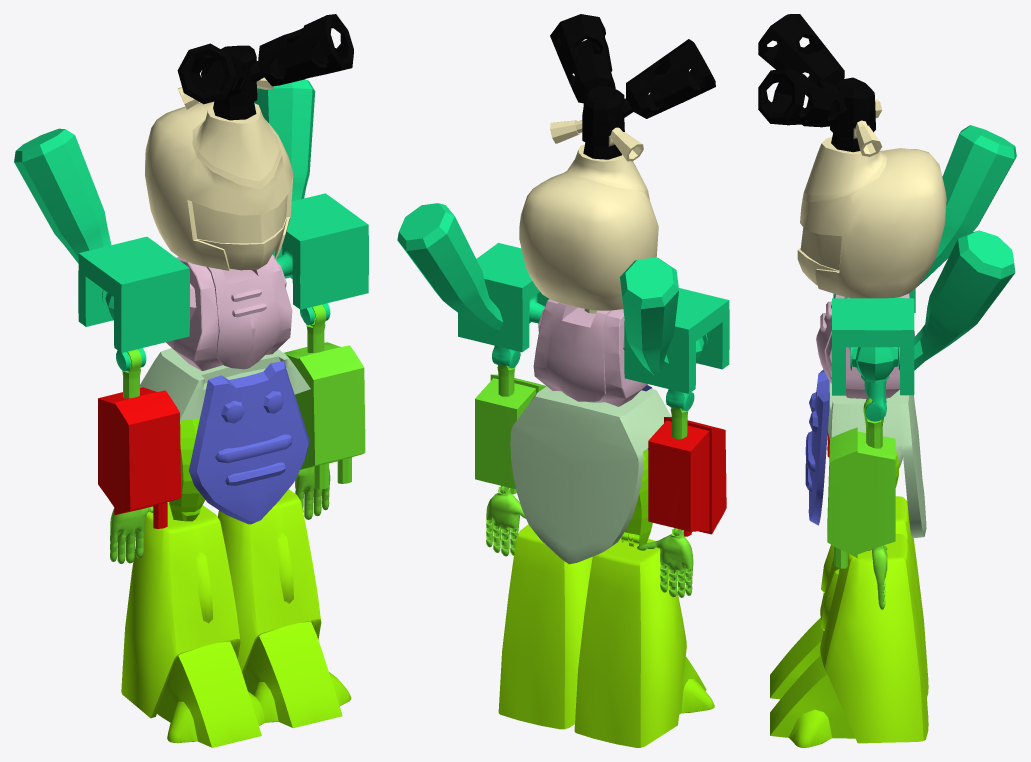
The model's file is MetabeeLoePolyBlender.fbx.
3 views of the same model, side by side, from view 1: azimuth 30°, elevation 25°; view 2: azimuth 150°, elevation 25°; view 3: azimuth 270°, elevation 25° (orthographic). The views are drawn at different scales.
Visible parts, largest first — view 1: M_Head_LowPoly, M_Braco_E_LowPoly001, M_AntePerna_D_Low_Poly, M_Escudo_Saia_LowPoly, M_Braco_E_LowPoly005, M_AntePerna_E_Low_Poly, M_Chest_LowPoly, M_AnteBraco_D_Low_Poly, Pe_Metabee_LowPoly_D, M_AnteBraco_E_Low_Poly, Pe_Metabee_LowPoly_E, Saia_Traz_LowPoly (+5 smaller); view 2: M_Head_LowPoly, Saia_Traz_LowPoly, M_AntePerna_D_Low_Poly, M_AntePerna_E_Low_Poly, M_Braco_E_LowPoly005, M_Braco_E_LowPoly001, M_Chest_LowPoly, M_AnteBraco_D_Low_Poly, M_AnteBraco_E_Low_Poly, M_Perna_D_Low, Pe_Metabee_LowPoly_D, Mao_D (+3 smaller); view 3: M_Head_LowPoly, M_AntePerna_E_Low_Poly, M_Braco_E_LowPoly005, M_AnteBraco_E_Low_Poly, M_Braco_E_LowPoly001, Saia_Traz_LowPoly, Pe_Metabee_LowPoly_E, M_Escudo_Saia_LowPoly, Arm_E, M_Chest_LowPoly, Pe_Metabee_LowPoly_D, M_AntePerna_D_Low_Poly (+2 smaller).
Boxes of the visible parts, box(x1,y1,x2,y2) form: M_Head_LowPoly: box(145, 14, 353, 270); M_Braco_E_LowPoly001: box(14, 128, 189, 352); M_AntePerna_D_Low_Poly: box(121, 502, 240, 718); M_Escudo_Saia_LowPoly: box(189, 361, 309, 524); M_Braco_E_LowPoly005: box(254, 79, 368, 309); M_AntePerna_E_Low_Poly: box(218, 489, 321, 676); M_Chest_LowPoly: box(166, 254, 292, 370); M_AnteBraco_D_Low_Poly: box(98, 387, 180, 528); Pe_Metabee_LowPoly_D: box(157, 641, 264, 747); M_AnteBraco_E_Low_Poly: box(284, 342, 365, 489); Pe_Metabee_LowPoly_E: box(243, 621, 351, 728); Saia_Traz_LowPoly: box(140, 348, 310, 420); M_Head_LowPoly: box(519, 14, 715, 310); Saia_Traz_LowPoly: box(510, 386, 671, 564); M_AntePerna_D_Low_Poly: box(574, 534, 686, 747); M_AntePerna_E_Low_Poly: box(498, 524, 592, 729); M_Braco_E_LowPoly005: box(397, 203, 548, 352); M_Braco_E_LowPoly001: box(620, 257, 729, 393); M_Chest_LowPoly: box(533, 299, 647, 406); M_AnteBraco_D_Low_Poly: box(648, 417, 726, 536); M_AnteBraco_E_Low_Poly: box(475, 374, 546, 494); M_Perna_D_Low: box(621, 449, 652, 545); Pe_Metabee_LowPoly_D: box(679, 656, 714, 714); Mao_D: box(655, 528, 693, 571); M_Head_LowPoly: box(758, 14, 946, 298); M_AntePerna_E_Low_Poly: box(820, 534, 928, 743); M_Braco_E_LowPoly005: box(832, 230, 1015, 395); M_AnteBraco_E_Low_Poly: box(827, 427, 895, 568); M_Braco_E_LowPoly001: box(833, 125, 1016, 312); Saia_Traz_LowPoly: box(828, 382, 926, 538); Pe_Metabee_LowPoly_E: box(770, 655, 855, 747); M_Escudo_Saia_LowPoly: box(805, 369, 829, 525); Arm_E: box(850, 347, 899, 421); M_Chest_LowPoly: box(816, 293, 914, 398); Pe_Metabee_LowPoly_D: box(770, 617, 823, 699); M_AntePerna_D_Low_Poly: box(820, 496, 928, 696).
Bounding box in the file's own units: 187 × 150 × 425.
